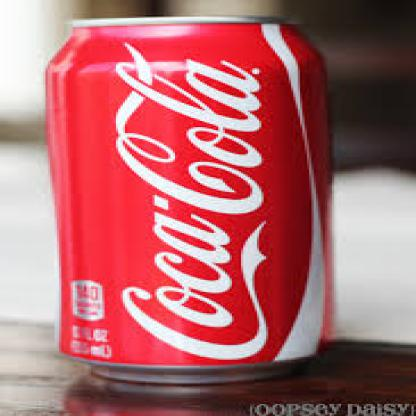Compsot: (41, 14, 336, 384)
